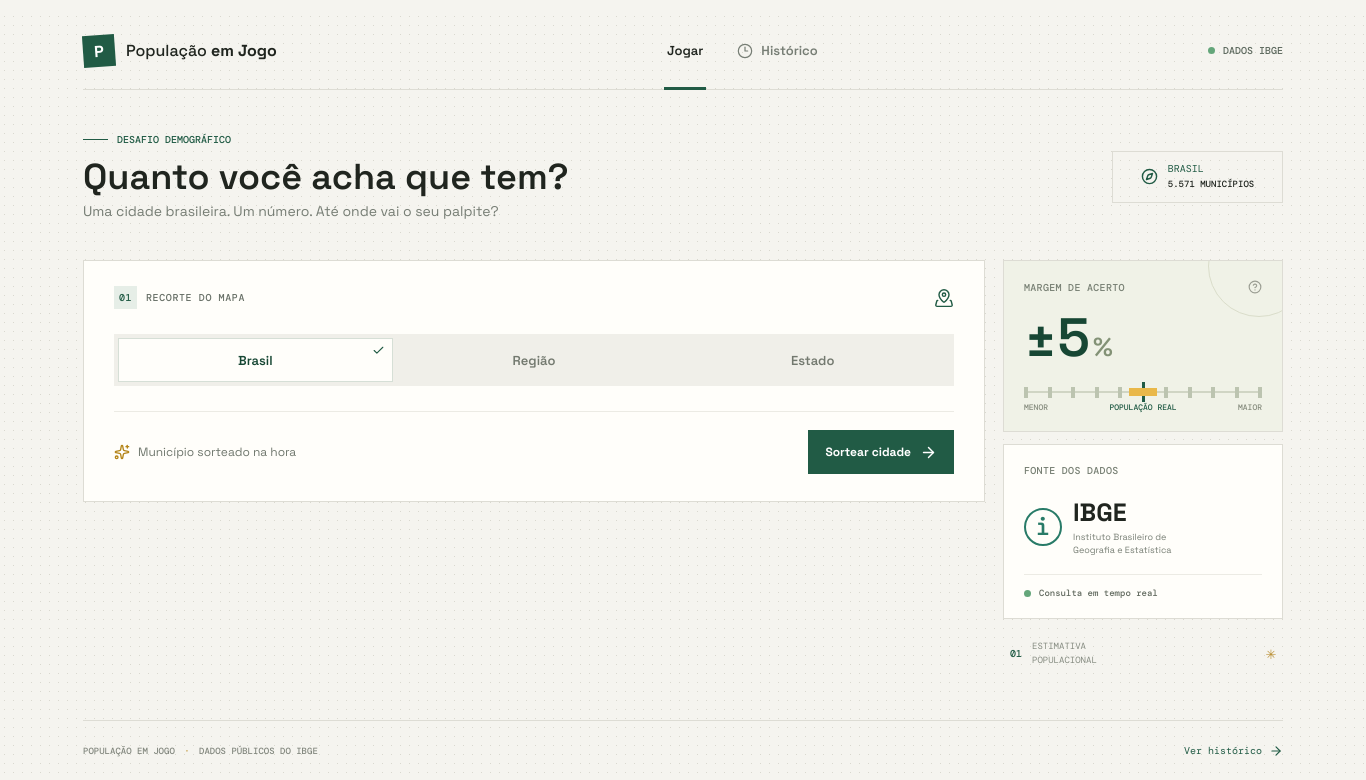
Test: App › exige uma região antes de iniciar uma partida regional
This screenshot has width=1366, height=780.
Click the button "Região" at (534, 360), box [397,338,671,382]
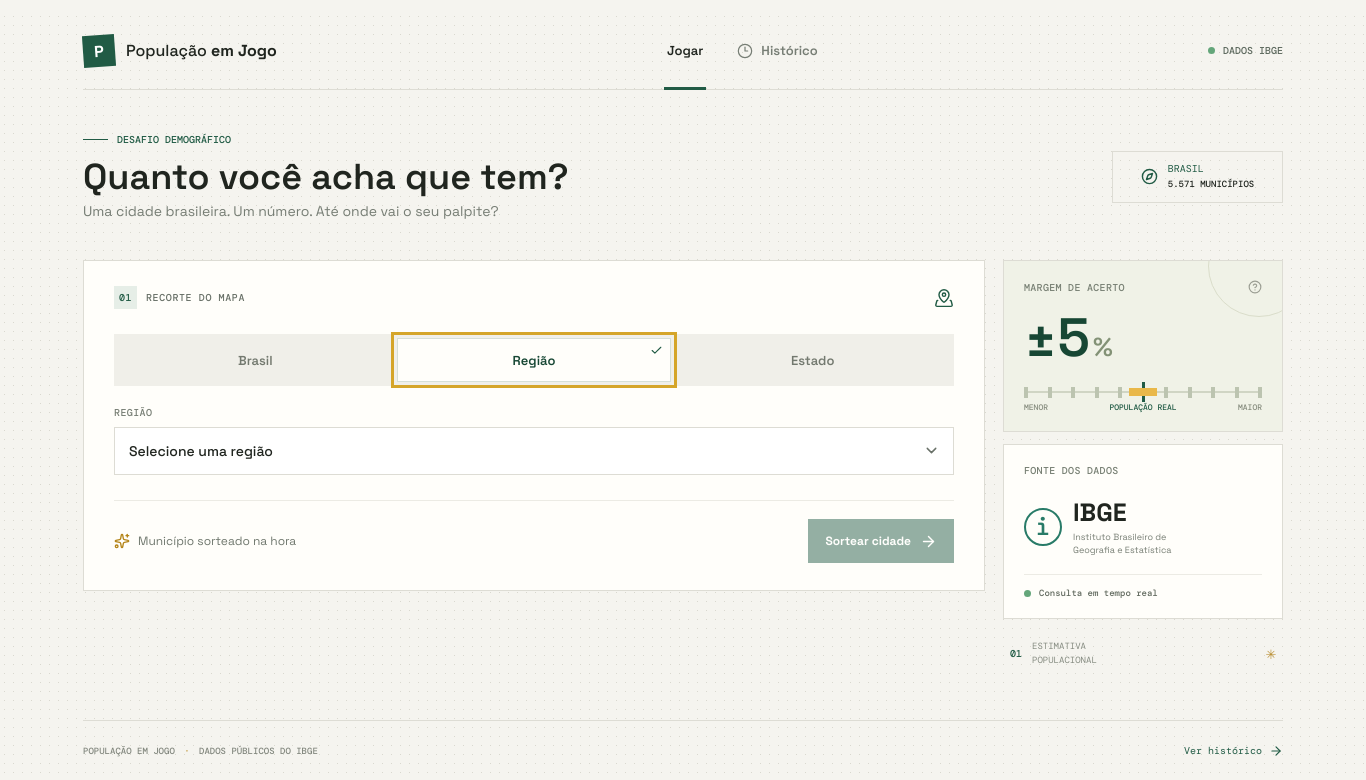
Expected: the button "Sortear cidade" is disabled, [808,519,954,563]
Select "Sudeste" in the dropdown labelled "REGIÃO" at (534, 451), box [114,427,954,475]
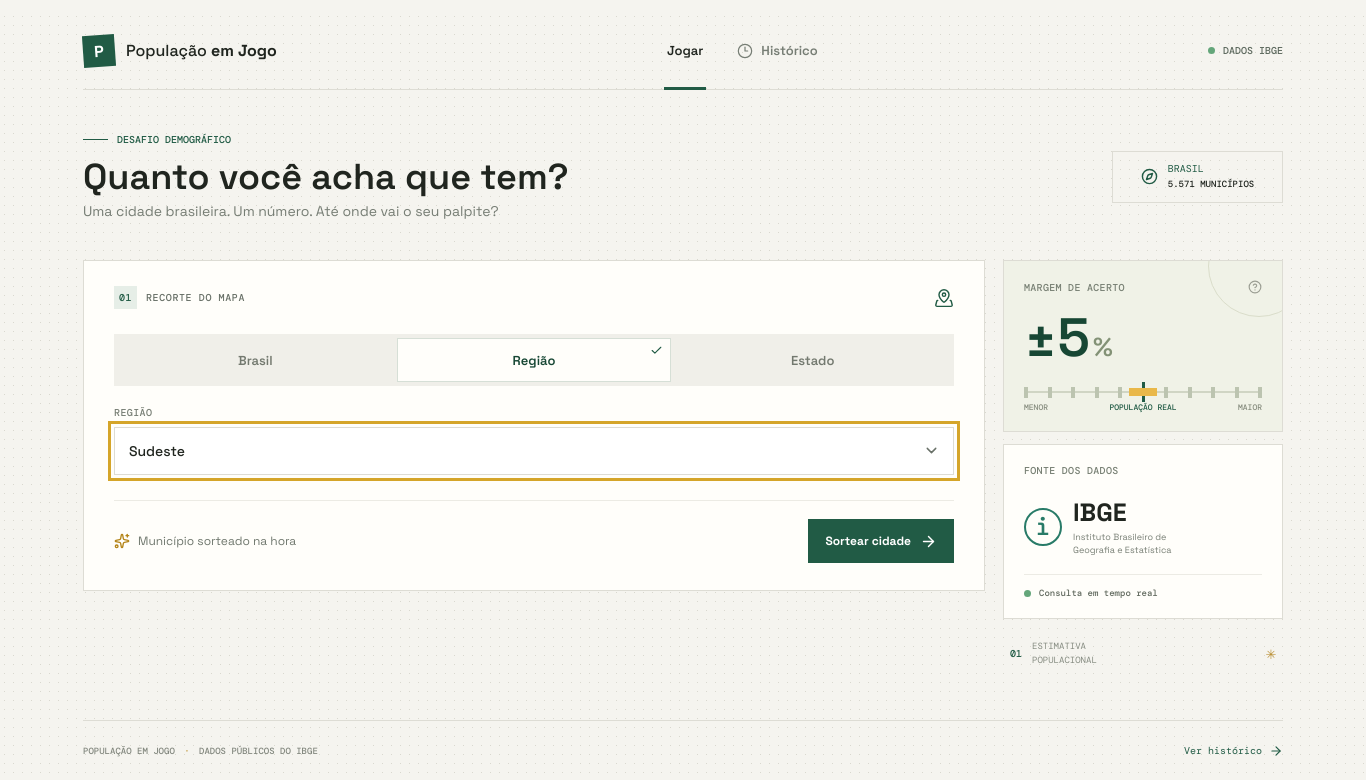
Expected: the button "Sortear cidade" is enabled, [808,519,954,563]
